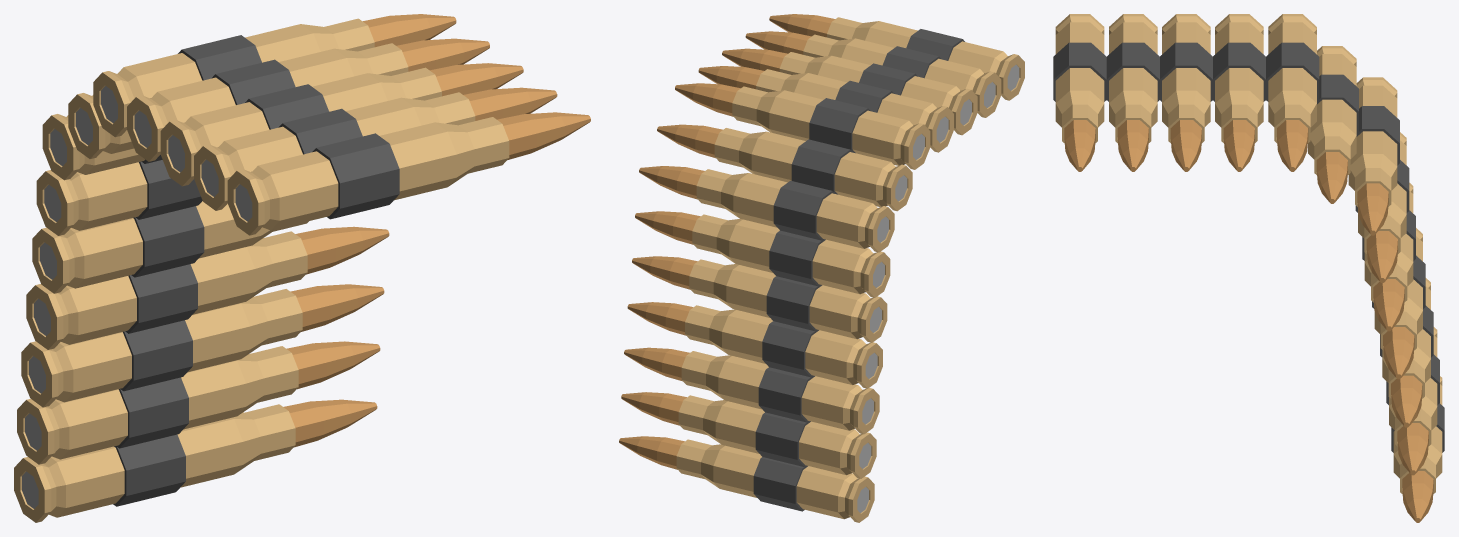
File: LMG2_Bullets.fbx
3 views of the same model, side by side, from view 1: azimuth 30°, elevation 25°; view 2: azimuth 150°, elevation 25°; view 3: azimuth 270°, elevation 25° (orthographic). The views are drawn at different scales.
Parts seen in each view (by area): view 1: LMG2_Bullets; view 2: LMG2_Bullets; view 3: LMG2_Bullets.
Part boxes in pixels (x1,y1,x2,y2): LMG2_Bullets: [14, 14, 590, 522]; LMG2_Bullets: [619, 14, 1024, 522]; LMG2_Bullets: [1053, 14, 1444, 522].
Size of the model in its own units: 0.0647 by 0.0903 by 0.0802.
